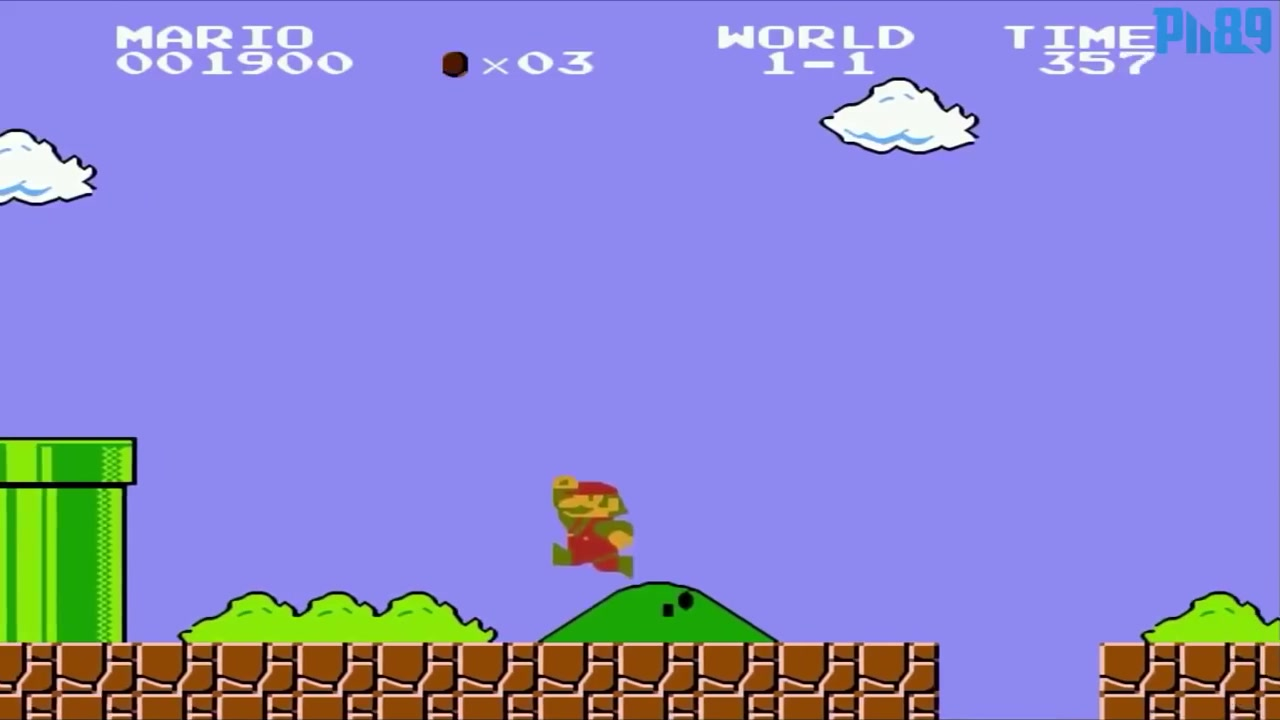mario: (540, 467, 638, 582)
